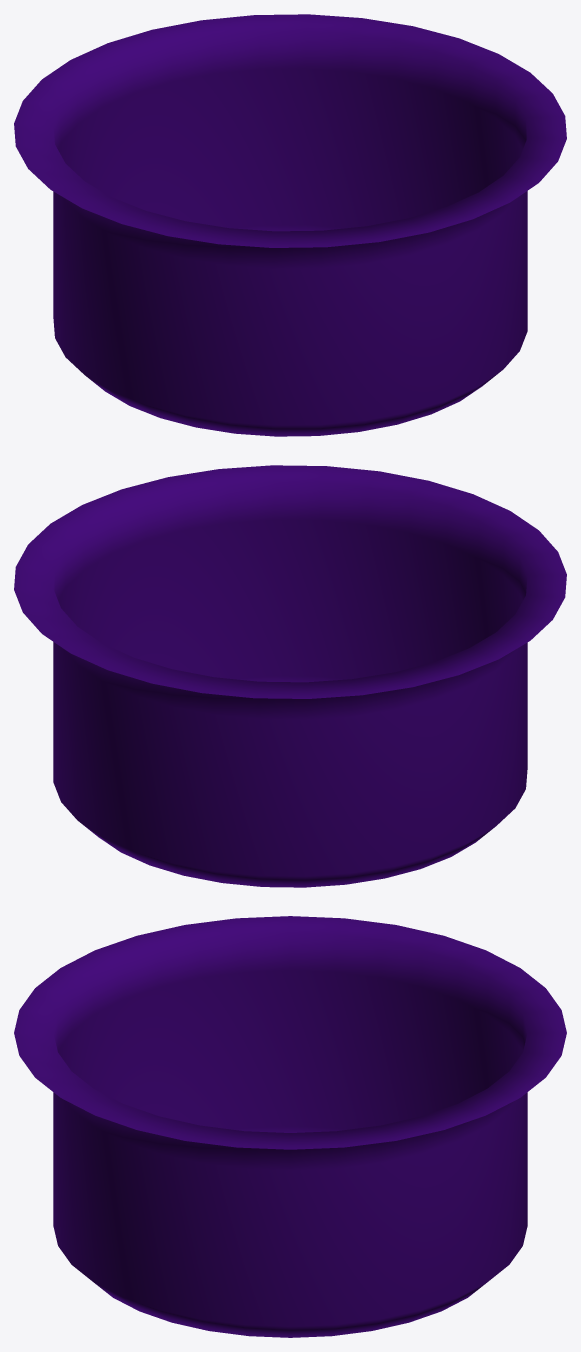
The model's file is border_pocket_center_a.fbx.
The picture shows the model from 3 angles, top to bottom: view 1: azimuth 30°, elevation 25°; view 2: azimuth 150°, elevation 25°; view 3: azimuth 270°, elevation 25°; orthographic projection.
Visible parts, largest first — view 1: lod0; view 2: lod0; view 3: lod0.
Part boxes in pixels (x1,y1,x2,y2): lod0: [14, 14, 566, 436]; lod0: [14, 465, 566, 887]; lod0: [14, 916, 566, 1337].
Size of the model in its own units: 4.67 by 2 by 4.67.
